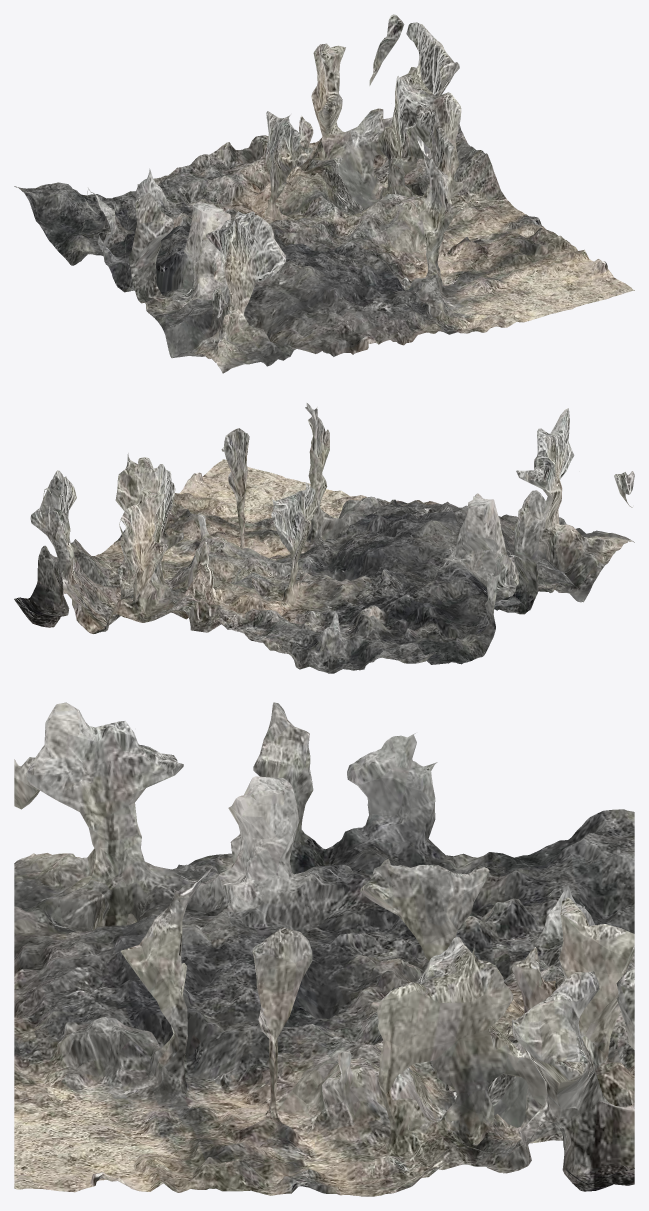
The model's file is Block_L20_342.glb.
3 views of the same model, one above another, from view 1: azimuth 30°, elevation 25°; view 2: azimuth 150°, elevation 25°; view 3: azimuth 270°, elevation 25° (orthographic). The views are drawn at different scales.
Visible parts, largest first — view 1: rtc; view 2: rtc; view 3: rtc.
Part boxes in pixels (bbox=[...]): rtc: bbox=[14, 14, 634, 373]; rtc: bbox=[14, 403, 634, 673]; rtc: bbox=[14, 702, 634, 1196].
Size of the model in its own units: 20.13 by 7.7 by 17.65.
5 materials, 5 textured.
